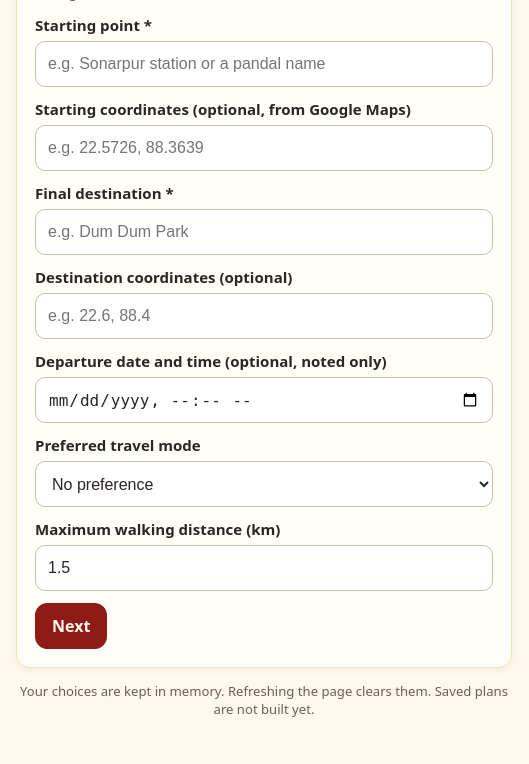
Durga Pujo Bole Kotha guided flow › will not move past the trip screen without a start and destination
(page scrolled)
Check: the field labelled "Starting point *" is shown, box [35,41,493,87]
Click the button "Next" at (71, 626), box [35,603,107,649]
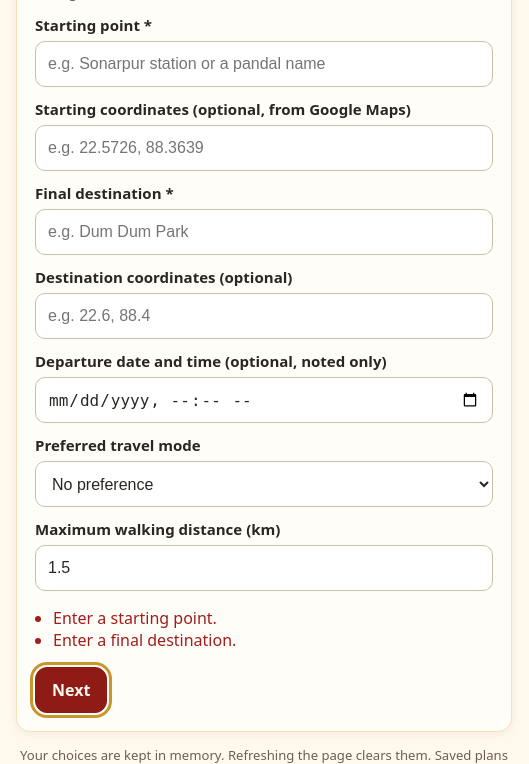
Check: the message shows "Enter a starting point", box [53,607,217,629]
